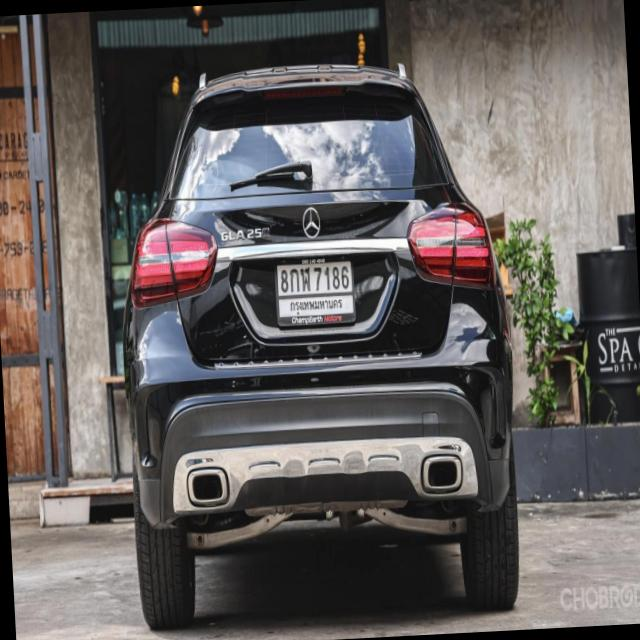license_plate: (273, 257, 356, 332)
